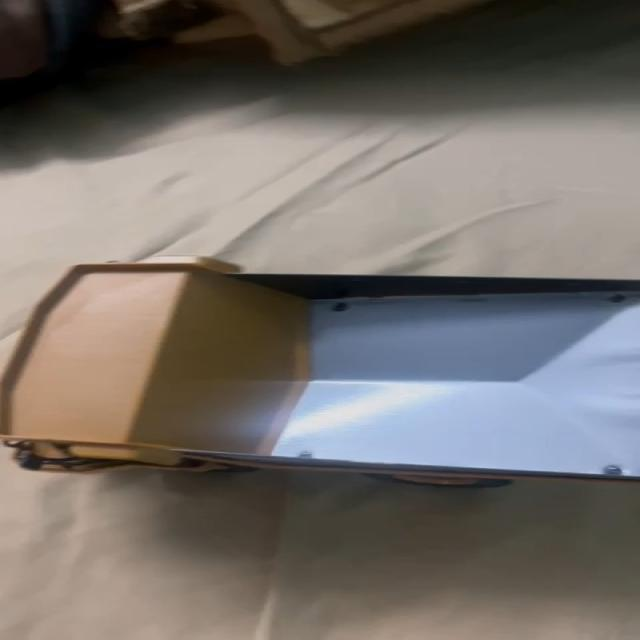dump_truck: (19, 259, 640, 494)
